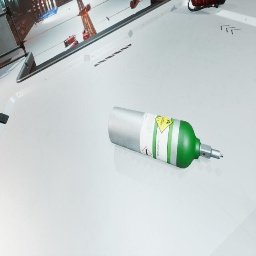0: (108, 106, 223, 168), (45, 0, 50, 11), (48, 0, 52, 10), (53, 0, 57, 9), (27, 9, 33, 13)
FireExtinguisher ]: (188, 0, 226, 12), (64, 33, 76, 47), (70, 40, 79, 48)
FirstAidBox ,: (82, 29, 89, 41)
NitrogenTank ,: (79, 3, 91, 17), (31, 0, 39, 18), (35, 0, 43, 16), (40, 0, 47, 14), (130, 0, 138, 9), (39, 0, 43, 14)
